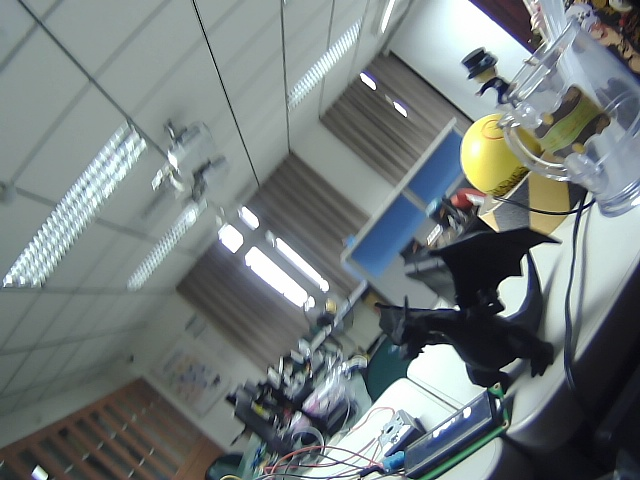charizard: (368, 223, 578, 412)
